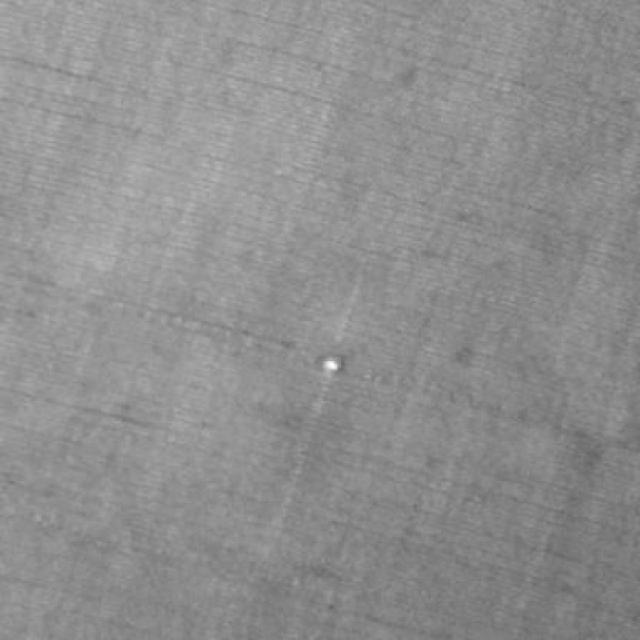seam: (254, 308, 396, 440)
